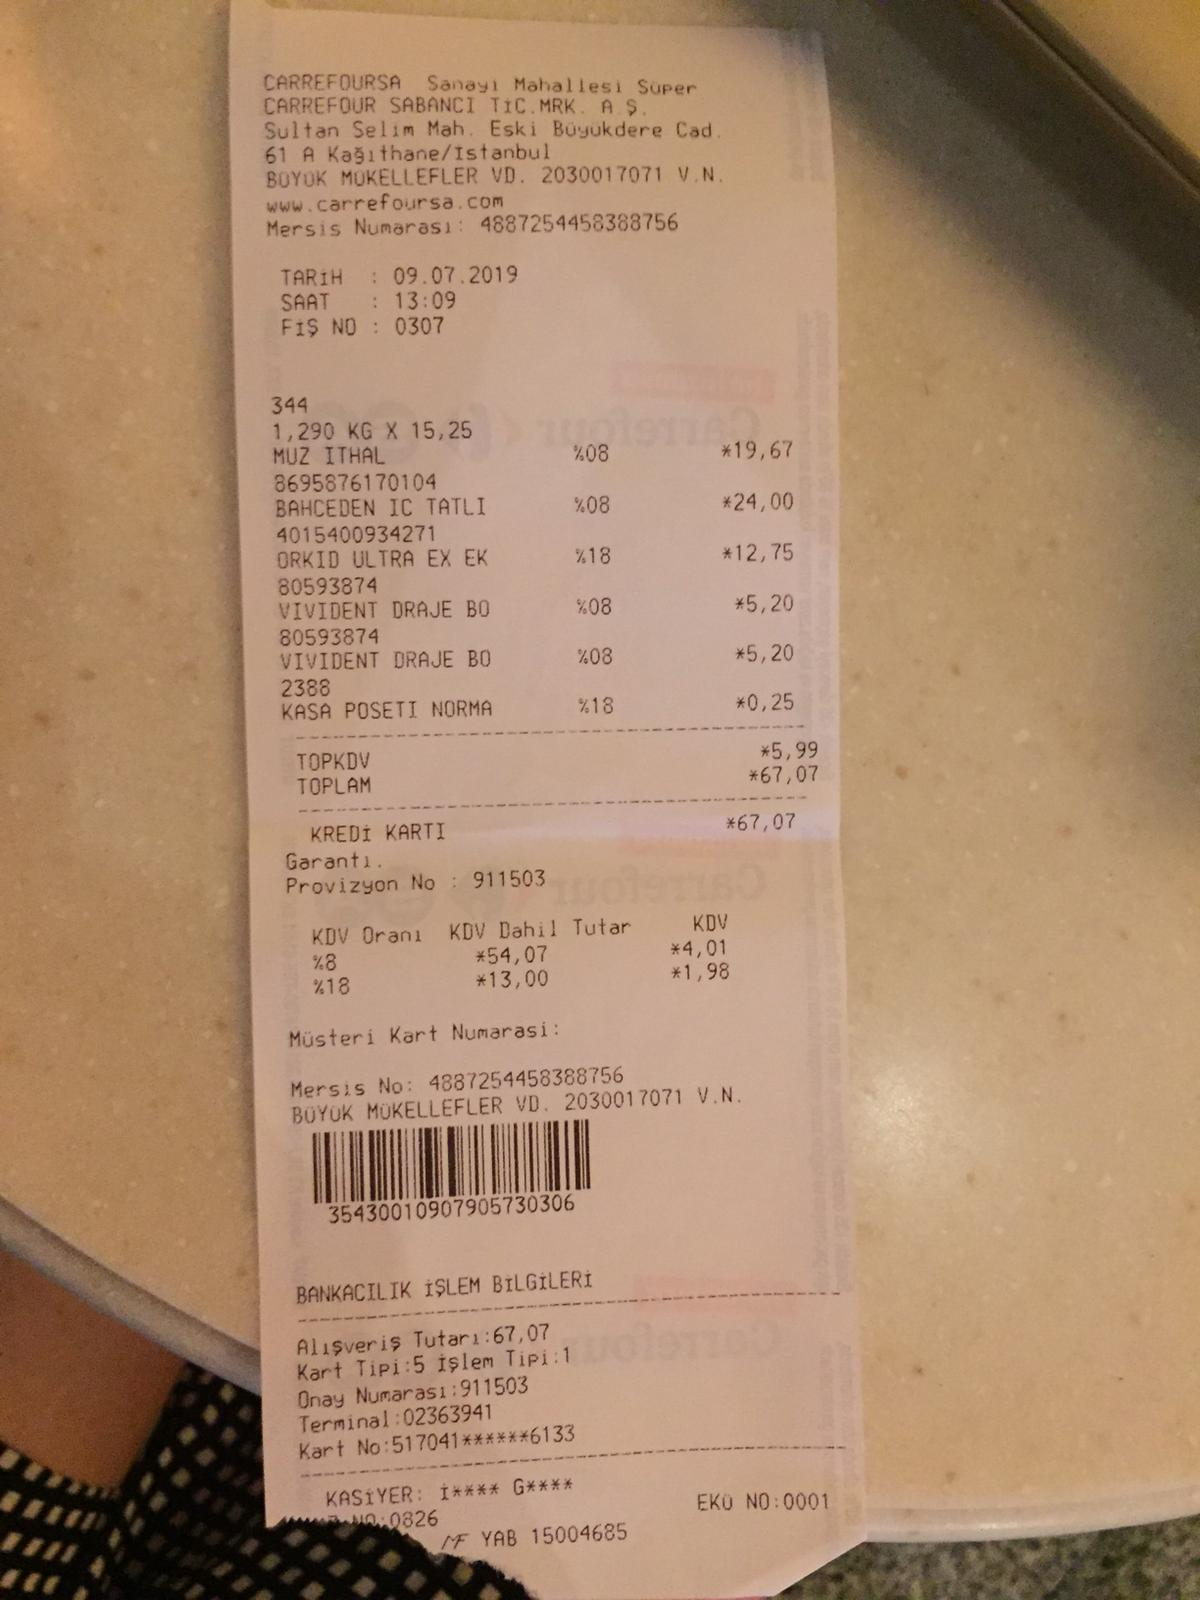total: (291, 765, 828, 799)
